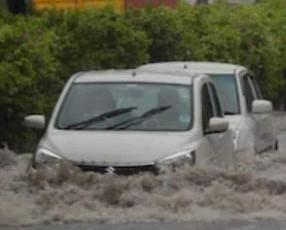water: (2, 113, 285, 228)
